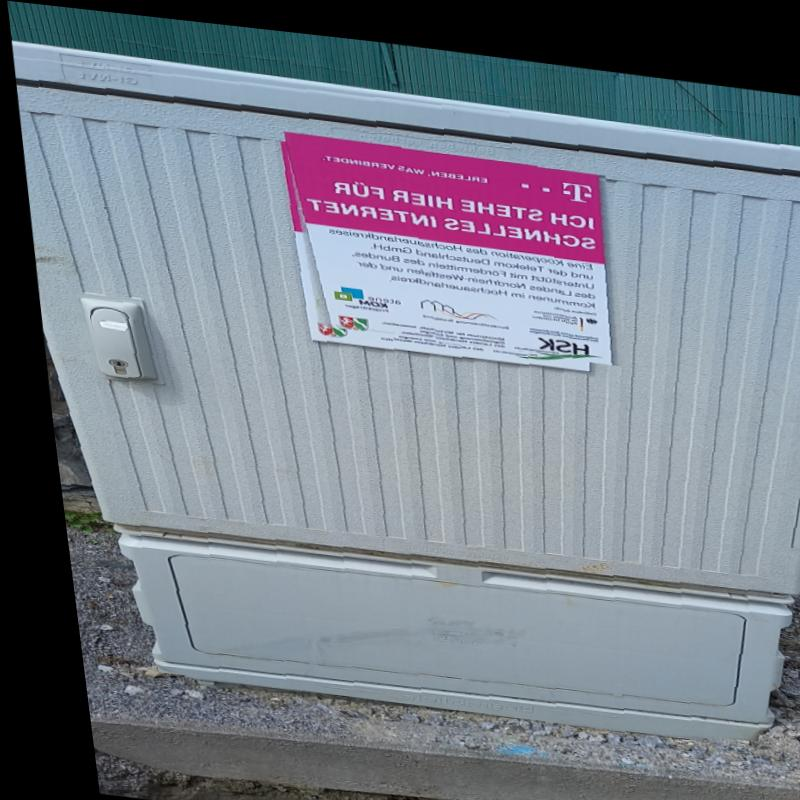NT-Gehause: (11, 53, 800, 712)
Steaker: (281, 130, 604, 347)
